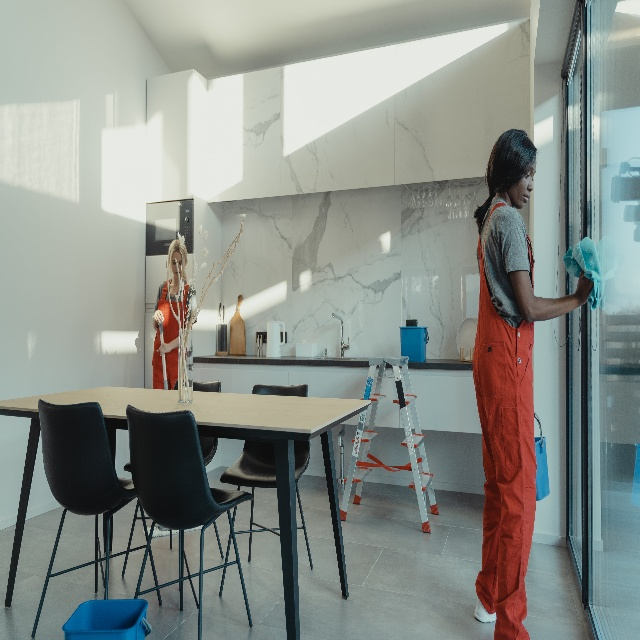Sin_guantes: (575, 269, 594, 305), (156, 342, 172, 356), (153, 309, 165, 325)
